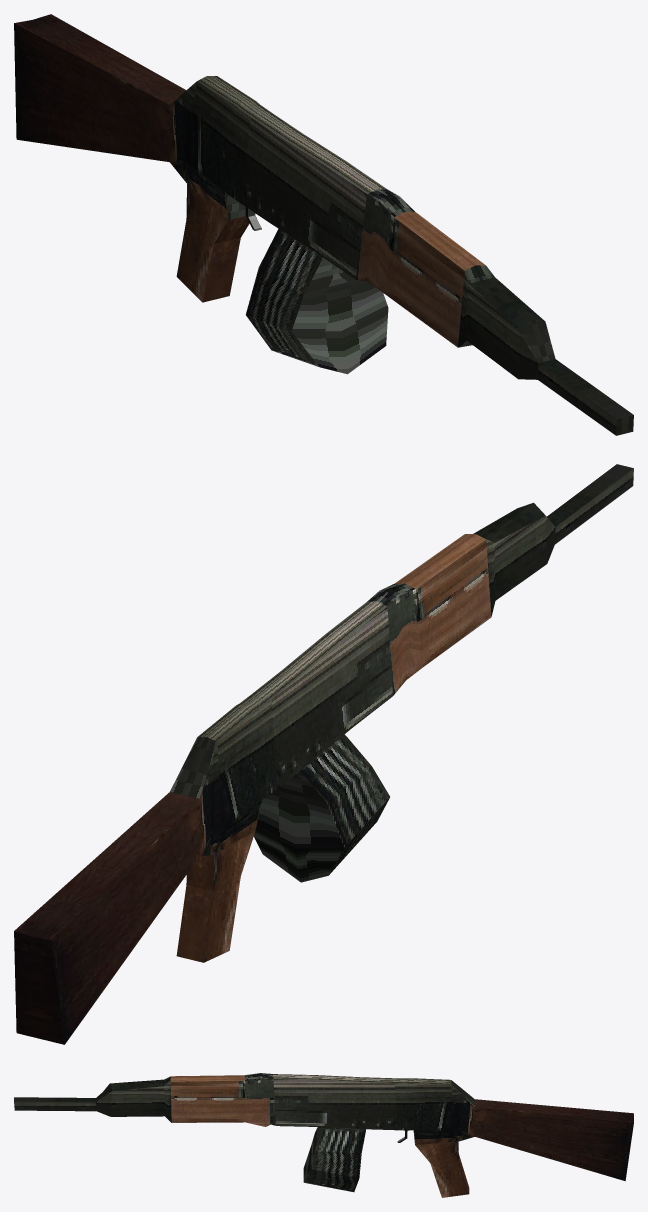
File: ak_drum.glb
The picture shows the model from 3 angles, top to bottom: view 1: azimuth 30°, elevation 25°; view 2: azimuth 150°, elevation 25°; view 3: azimuth 270°, elevation 25°; orthographic projection. The views are drawn at different scales.
Parts seen in each view (by area): view 1: ak47.001; view 2: ak47.001; view 3: ak47.001.
Boxes of the visible parts, x1,y1,x2,y2 form: ak47.001: (14,14,633,435); ak47.001: (14,464,633,1044); ak47.001: (14,1073,633,1197).
Bounding box in the file's own units: 0.4589 × 1.04 × 4.86.
1 material, 1 textured.
